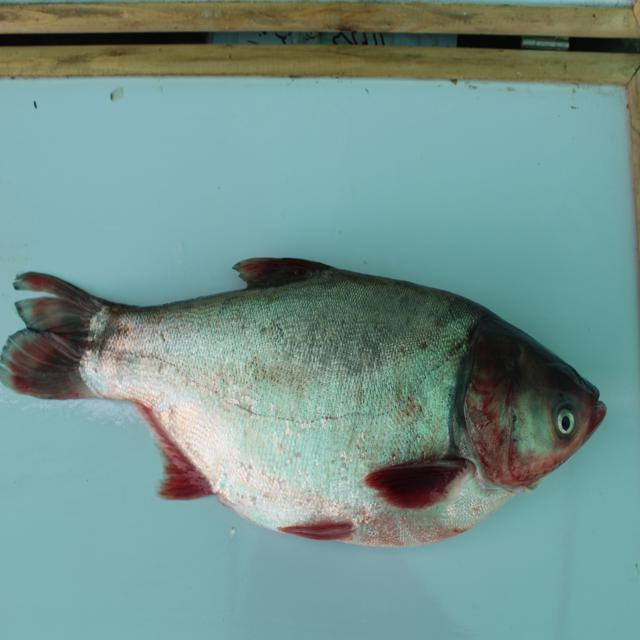SilverCarp: (11, 263, 595, 561)
